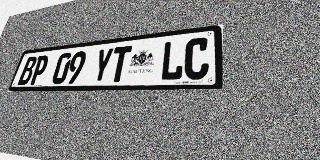0: (51, 52, 73, 84)
9: (65, 51, 88, 84)
B: (17, 56, 38, 85)
C: (183, 37, 210, 80)
L: (159, 40, 185, 81)
P: (29, 55, 50, 85)
T: (108, 46, 132, 82)
Y: (90, 48, 114, 83)
